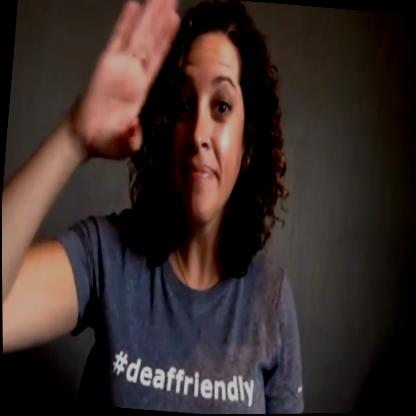Hello: (66, 0, 301, 276)
